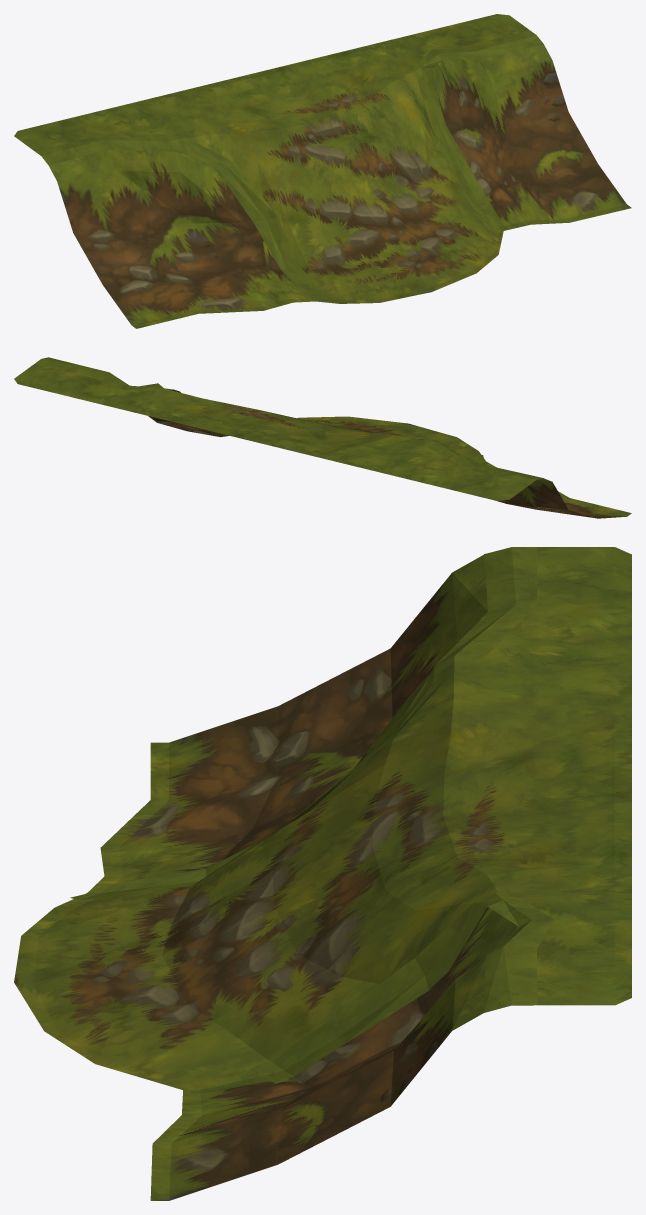
Rendered from tundra_ramp01.fbx.
The picture shows the model from 3 angles, top to bottom: view 1: azimuth 30°, elevation 25°; view 2: azimuth 150°, elevation 25°; view 3: azimuth 270°, elevation 25°; orthographic projection. The views are drawn at different scales.
Visible parts, largest first — view 1: obj3; view 2: obj3; view 3: obj3.
Part boxes in pixels (<box>): obj3: <box>14,14,631,328</box>; obj3: <box>14,357,631,518</box>; obj3: <box>14,547,631,1200</box>.
Bounding box in the file's own units: 20 × 4.01 × 11.39.
